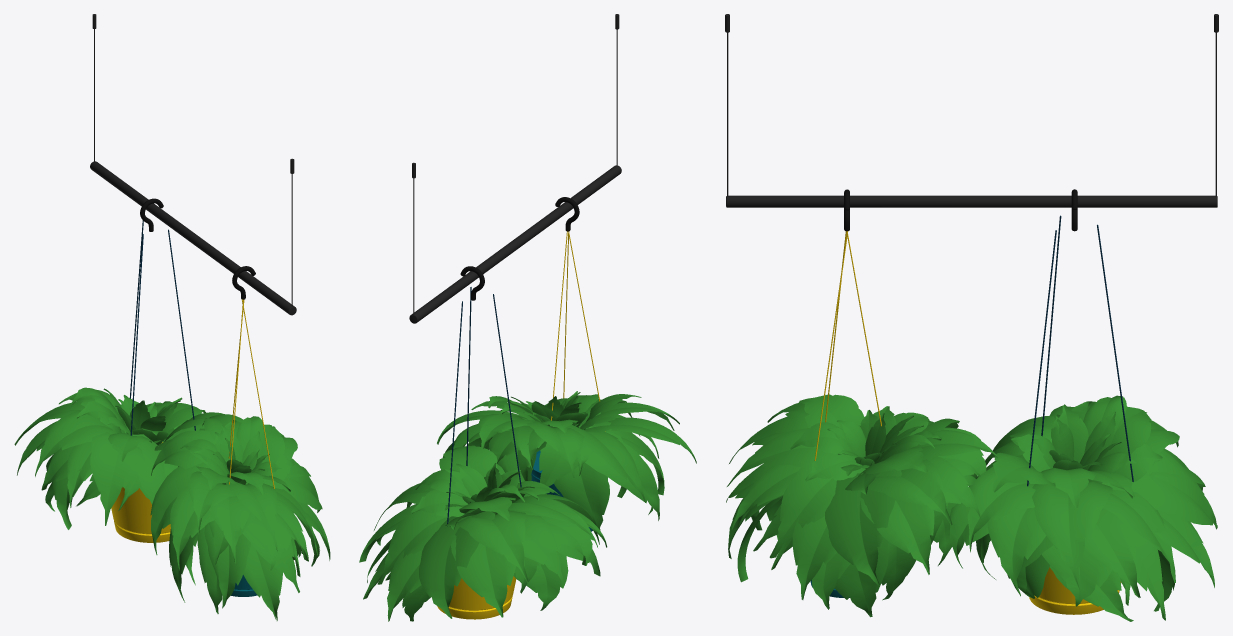
3 renders of one model, left to right at view 1: azimuth 30°, elevation 25°; view 2: azimuth 150°, elevation 25°; view 3: azimuth 270°, elevation 25°, orthographic. The views are drawn at different scales.
Visible parts, largest first — view 1: Group002, Group001, Cylinder007; view 2: Group001, Group002, Cylinder007; view 3: Group001, Group002, Cylinder007.
Boxes of the visible parts, x1,y1,x2,y2 form: Group002: [150, 414, 330, 620]; Group001: [14, 387, 222, 542]; Cylinder007: [90, 161, 296, 315]; Group001: [359, 445, 607, 621]; Group002: [437, 391, 696, 531]; Cylinder007: [409, 165, 621, 323]; Group001: [949, 395, 1217, 621]; Group002: [726, 394, 997, 617]; Cylinder007: [726, 195, 1217, 207].
Size of the model in its own units: 468 by 984 by 757.
